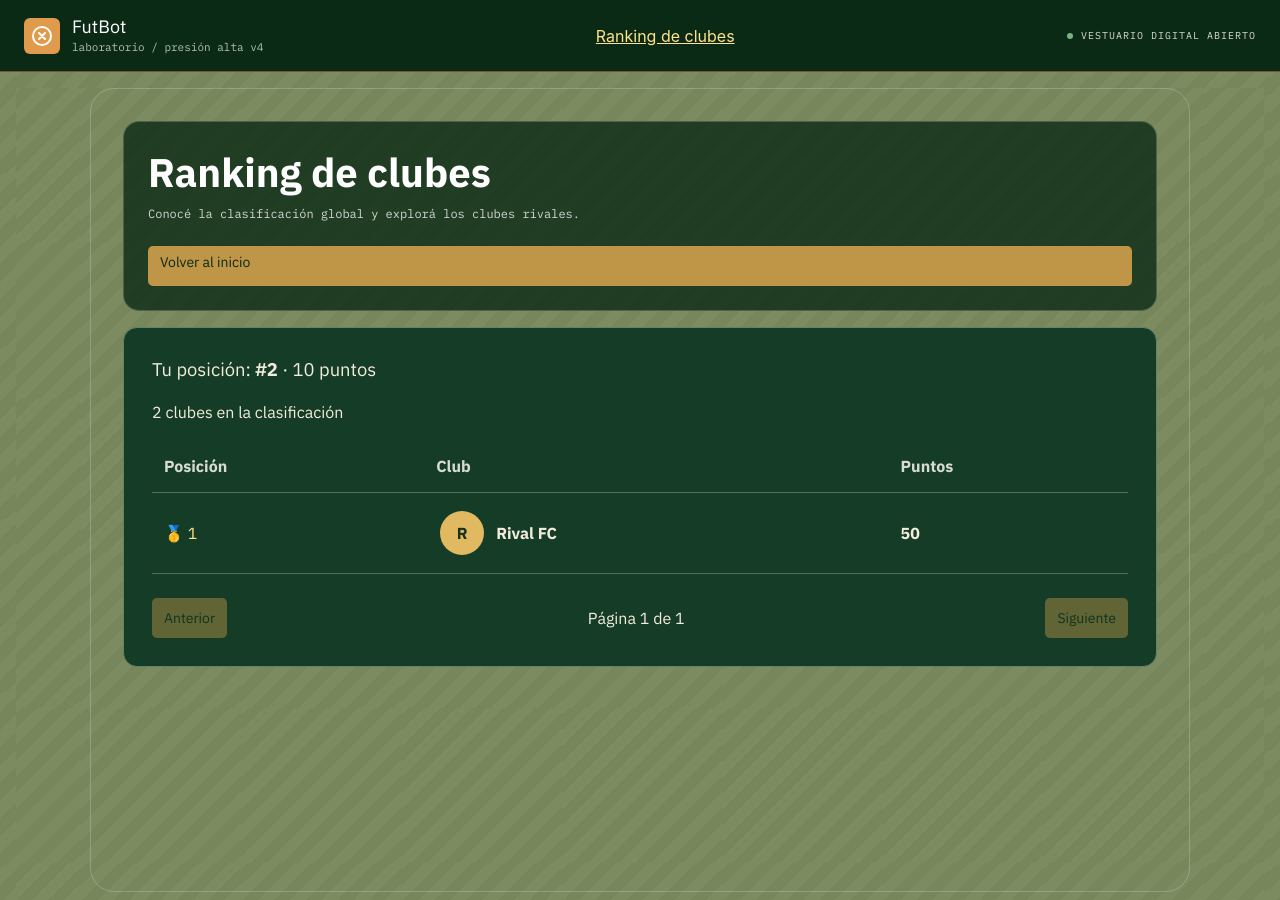
it: abre el ranking desde /ranking con el router real
Expected: the table is shown, [152,440,1128,574]
Click the button with aria-label "Ver perfil de Rival FC" at (499, 533), box [436,507,561,559]
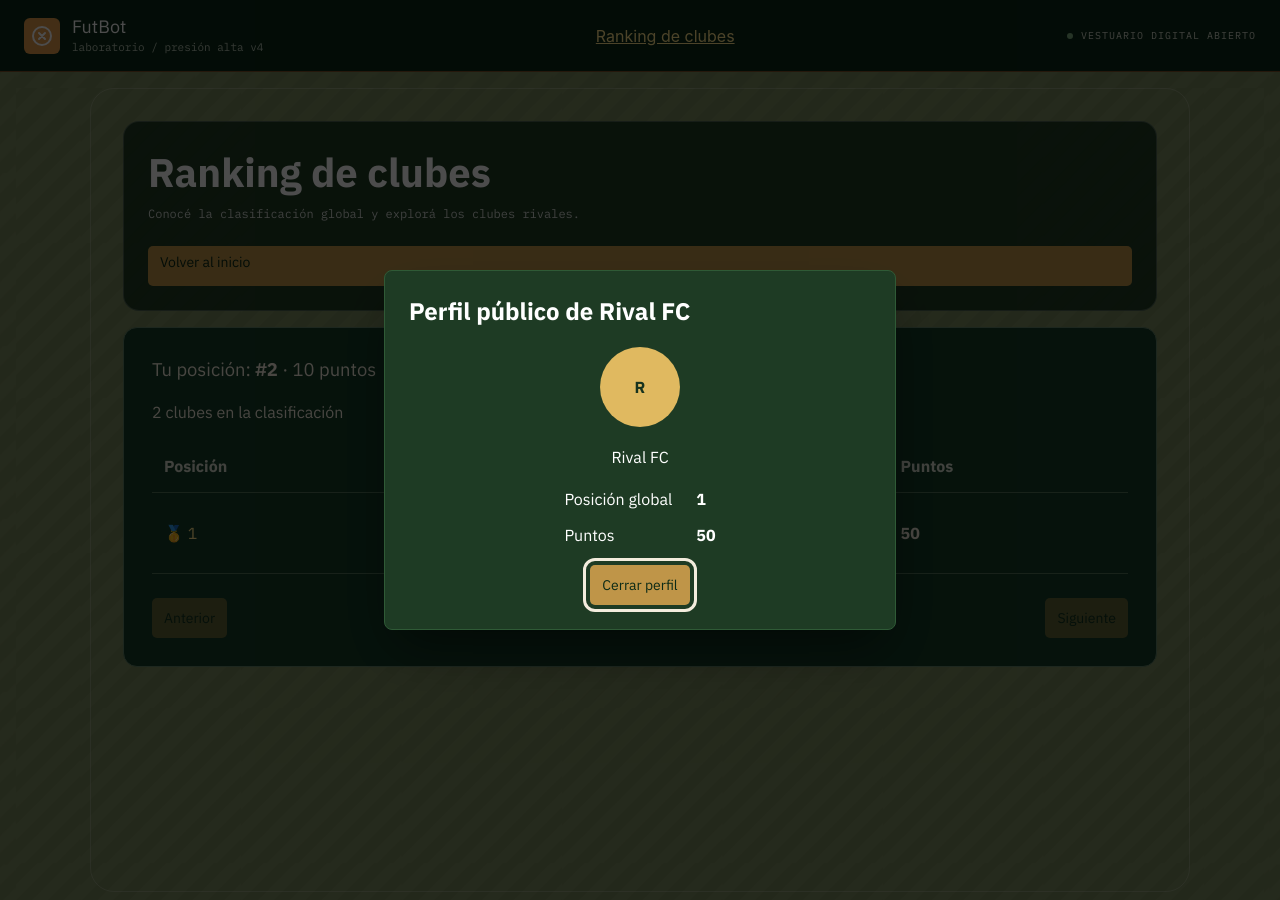
Expected: the text "50" is shown, [696,523,716,547]
Click the button "Cerrar perfil" at (640, 585), box [590,565,690,605]
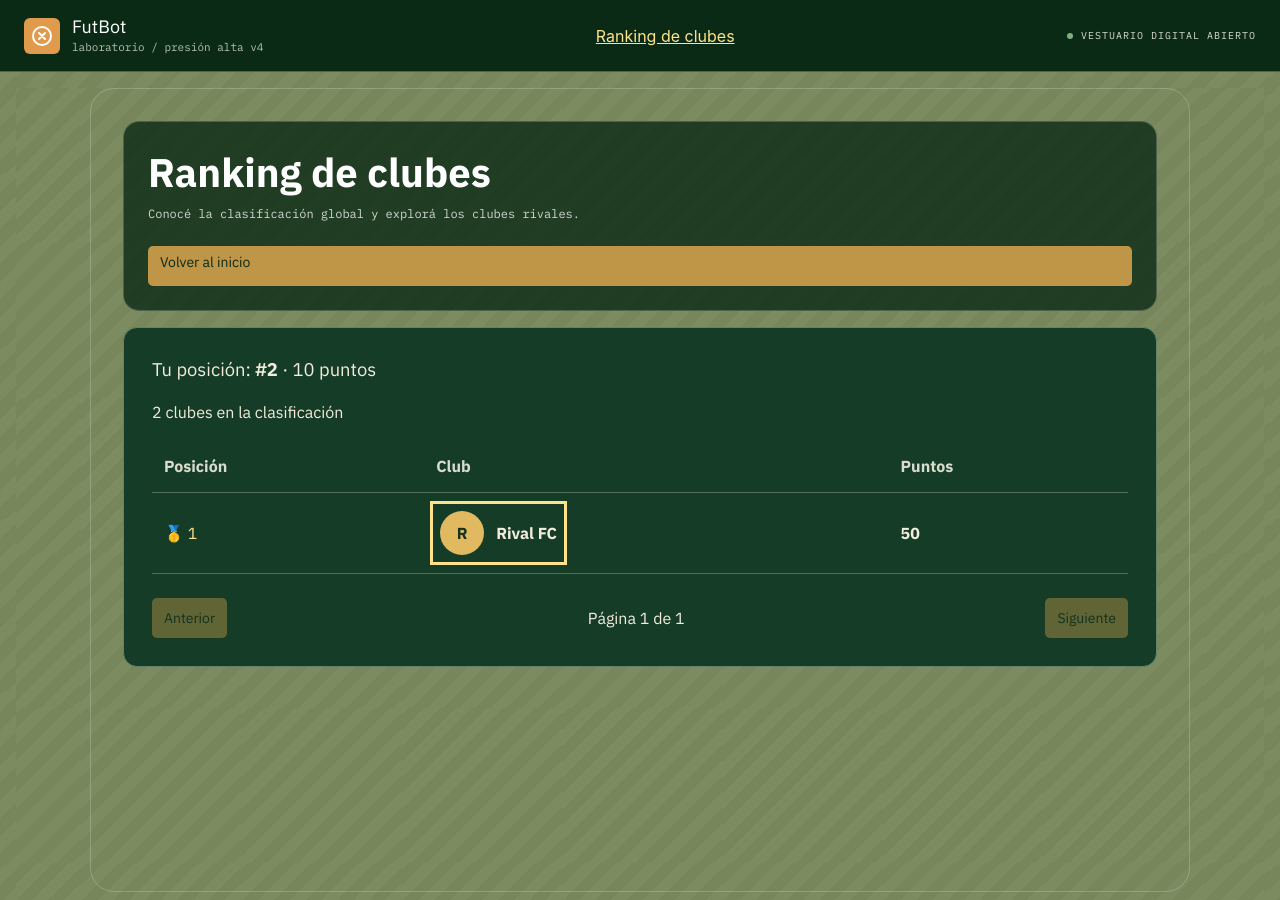
Expected: the table is shown, [152,440,1128,574]
Expected: the dialog is gone
